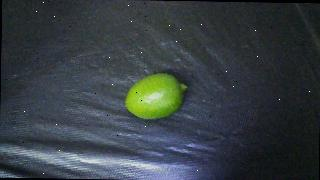LOCAL: (125, 73, 187, 120)
